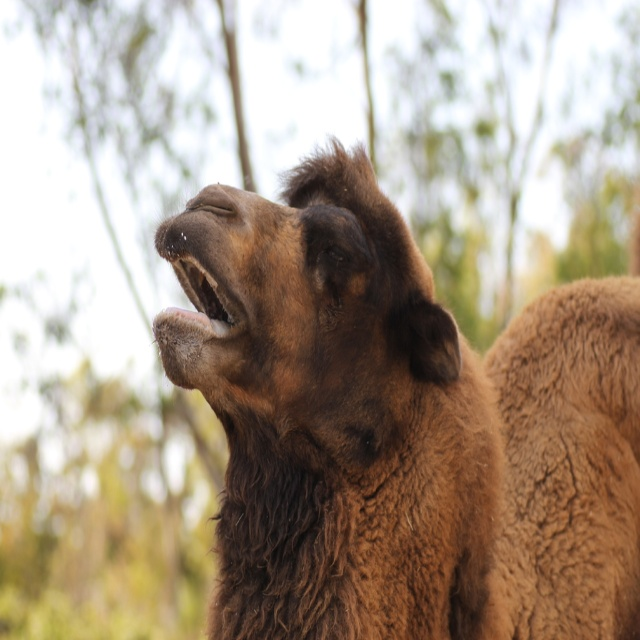Camel: (152, 128, 640, 639)
